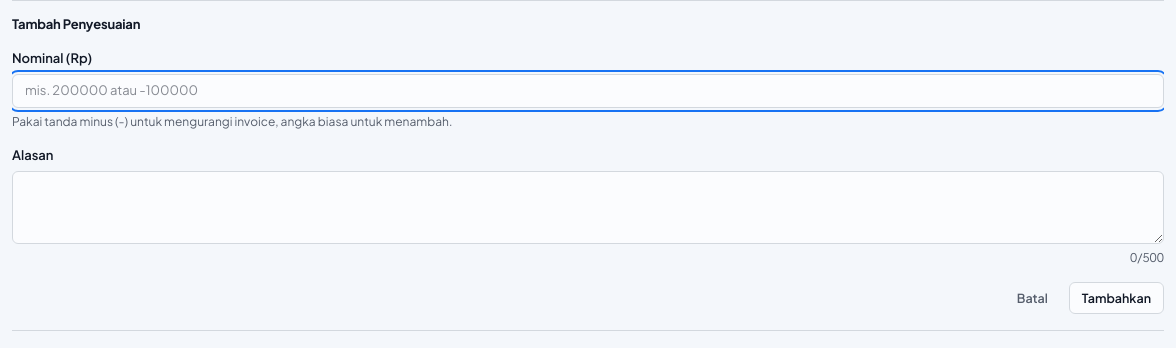
Test: AdjustmentForm › says how to fix an amount typed with thousands dots
This screenshot has width=1176, height=348.
Type "200.000" into the field labelled "Nominal (Rp)" at (588, 91), box [12,74,1164,108]
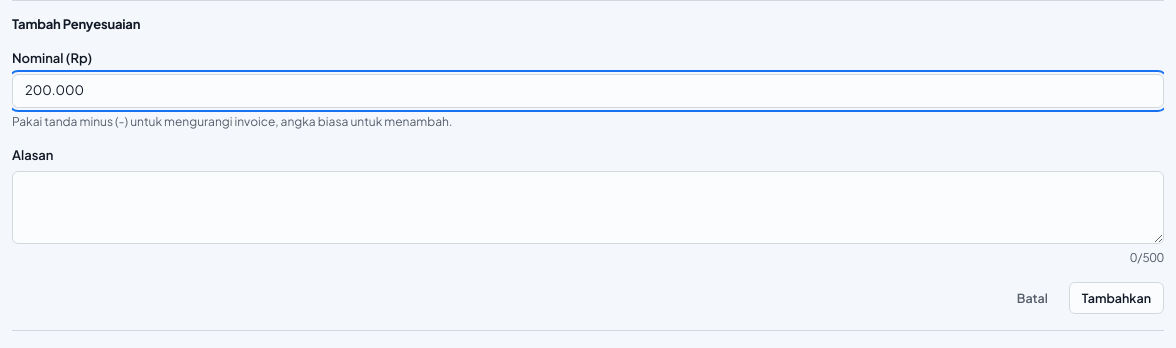
Type "Koreksi" into the text box labelled "Alasan" at (588, 207), box [12,171,1164,244]
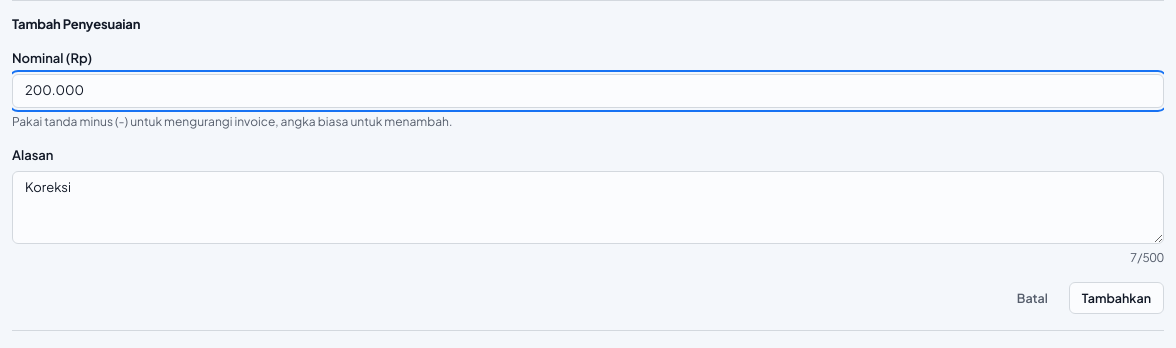
Click the button "Tambahkan" at (1116, 298), box [1069,282,1164,314]
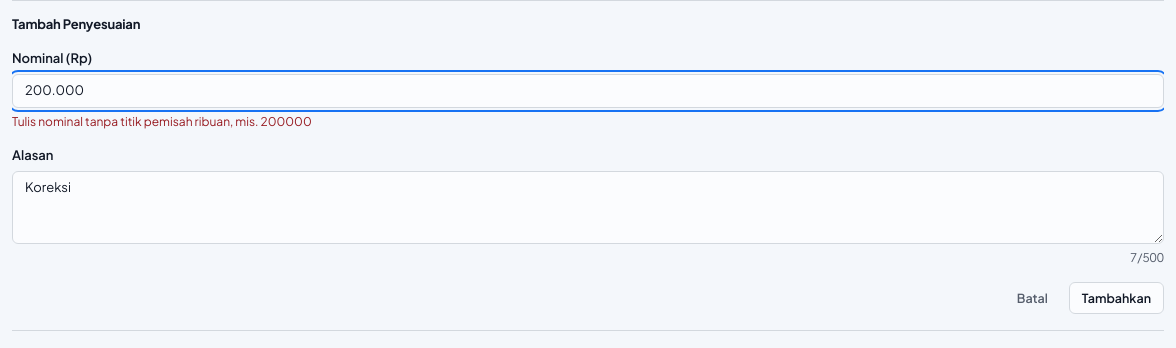
Now the text "Tulis nominal tanpa titik pemisah ribuan, mis. 200000" is shown, box [12,114,312,129]
